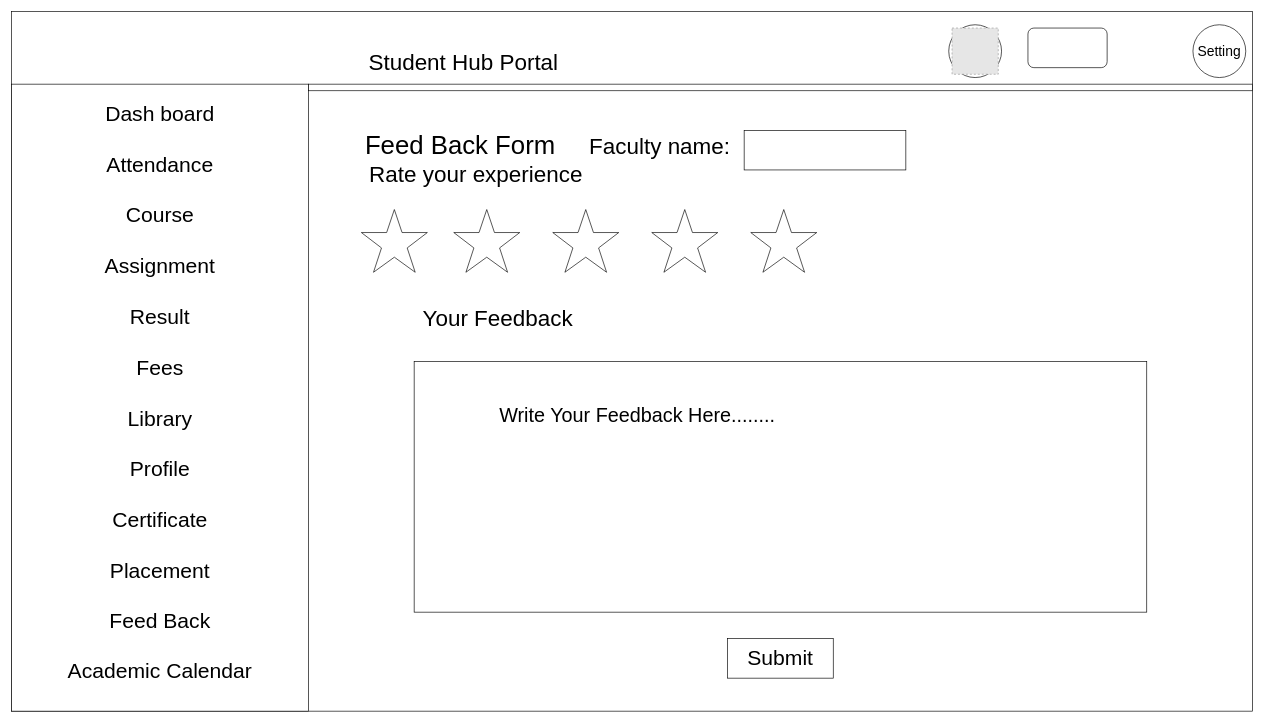
Some shapes in this 1264 by 723 pixel diagram are drawn without their labels. Grey dashed boxes stand in for pictures. Each missing label, with the centre of its shape:
"Faculty name:" belongs at [824,150].
"Name" belongs at [1067,47].
